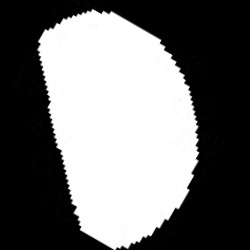spot: (37, 9, 200, 249)
